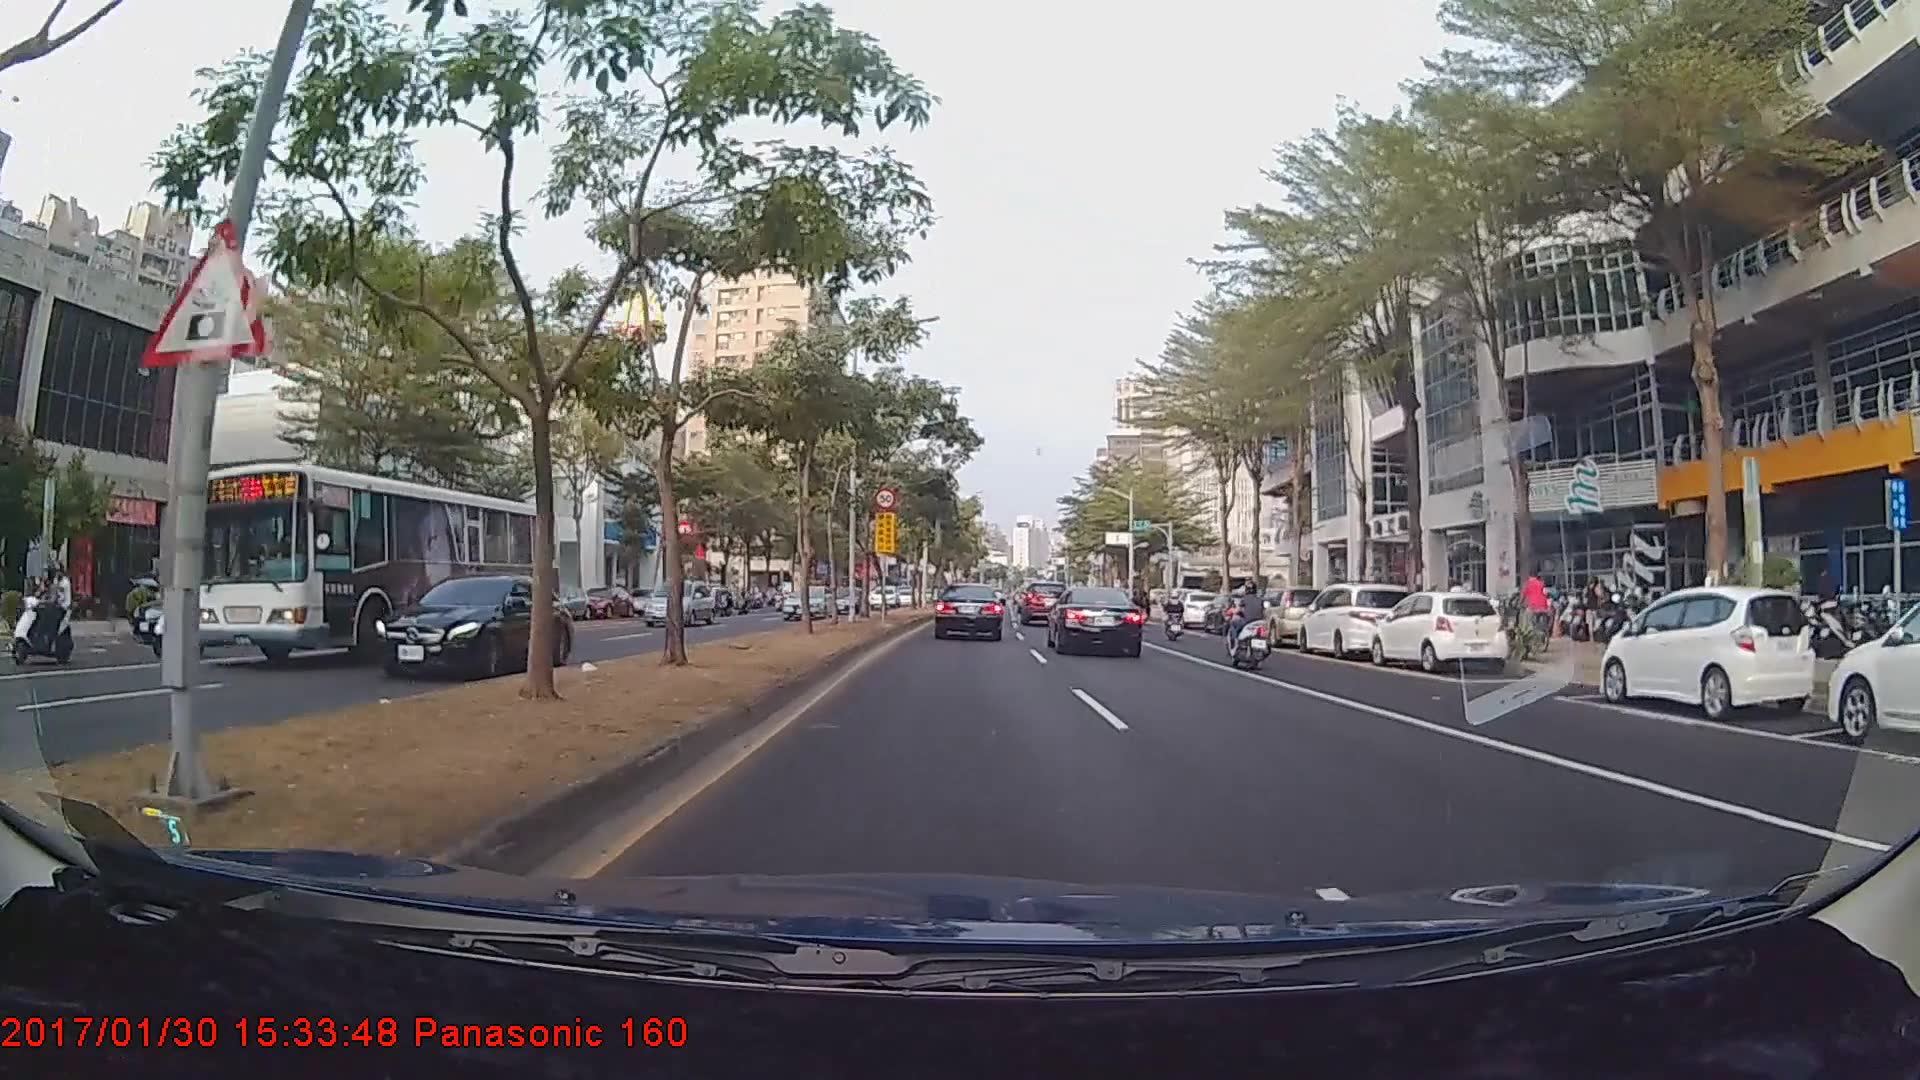rider: (18, 563, 89, 668), (1220, 582, 1286, 670), (1511, 568, 1560, 657), (1223, 586, 1277, 662), (1161, 586, 1190, 643)
vehicle: (186, 457, 559, 667), (1601, 585, 1807, 715), (371, 569, 576, 679), (1820, 587, 1920, 744), (1370, 589, 1505, 673), (1300, 581, 1412, 660), (1050, 584, 1145, 657), (1248, 586, 1334, 647), (933, 582, 1005, 641), (643, 576, 713, 624), (1020, 581, 1069, 626), (781, 583, 832, 618)
